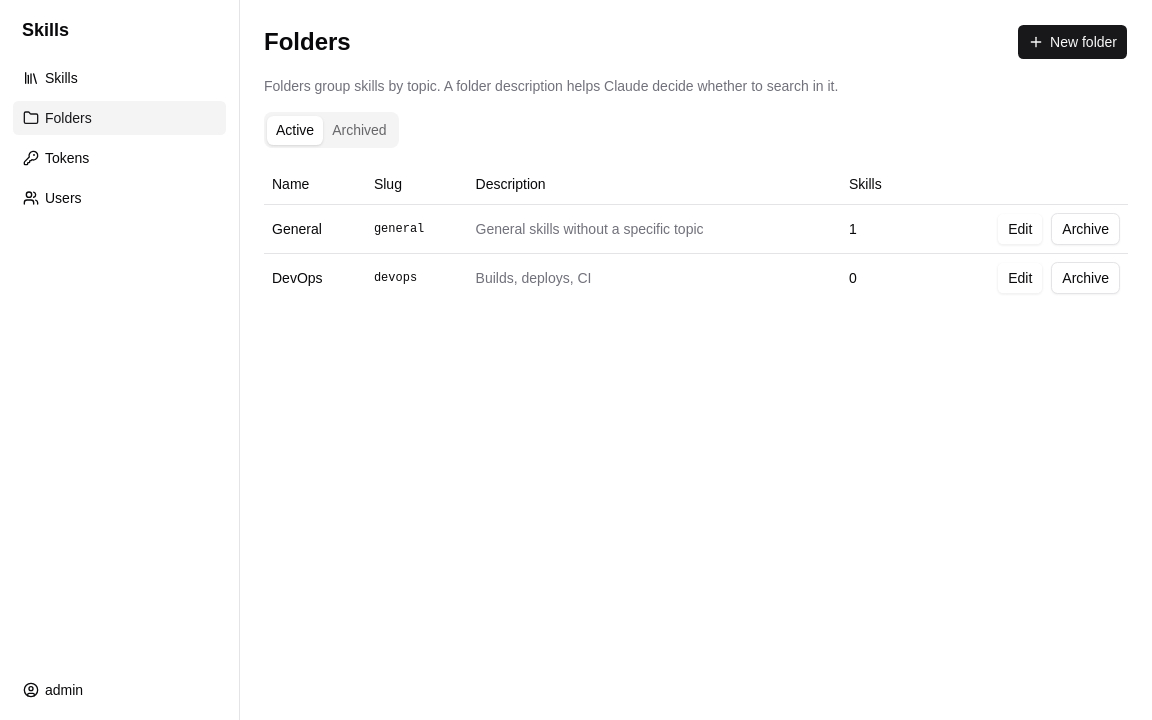
Scenario: FoldersPage › lists active folders with links into skills; archived tab asks for archived
Expected: the link "DevOps" is shown, [272,270,323,286]
Click the tab "Archived": (359, 130) [323,116,396,144]
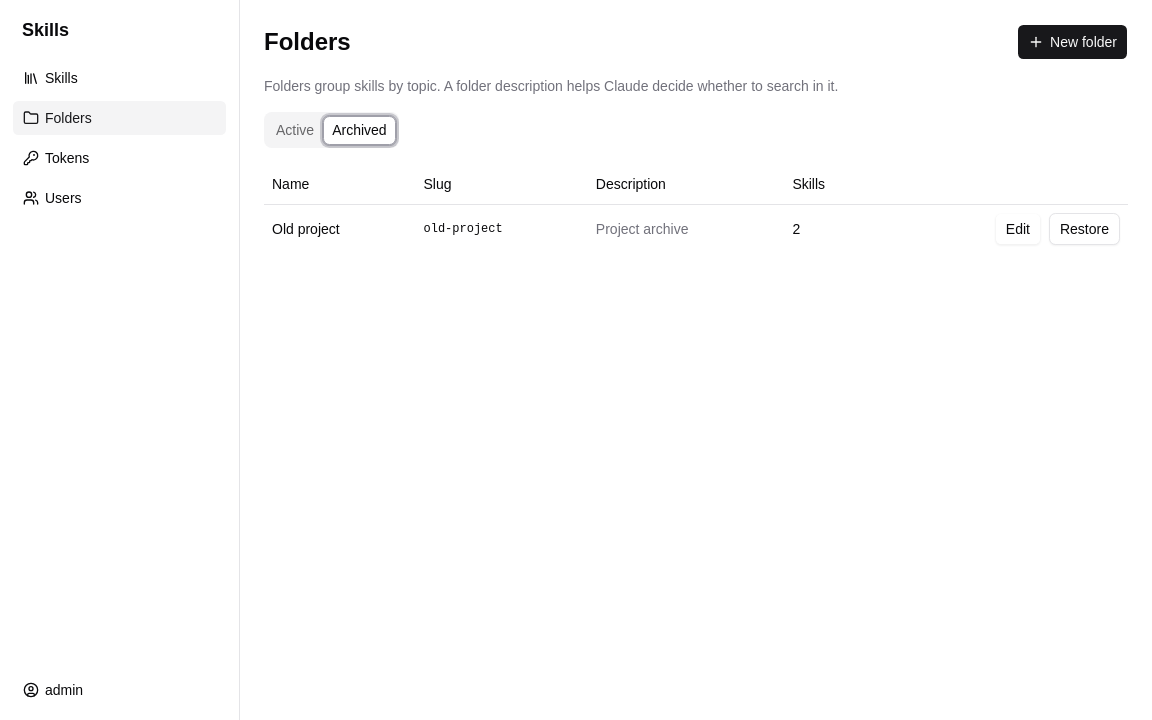
Now the row "Old project" shows "2", box [792,220,800,236]
